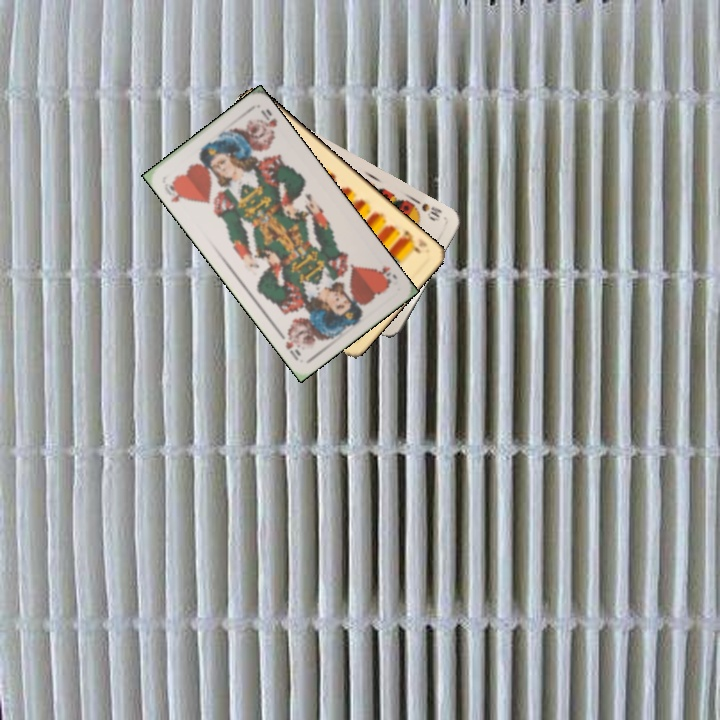E10: (396, 226, 424, 256)
HO: (371, 262, 400, 290), (165, 178, 189, 205)
S10: (411, 195, 445, 224)
